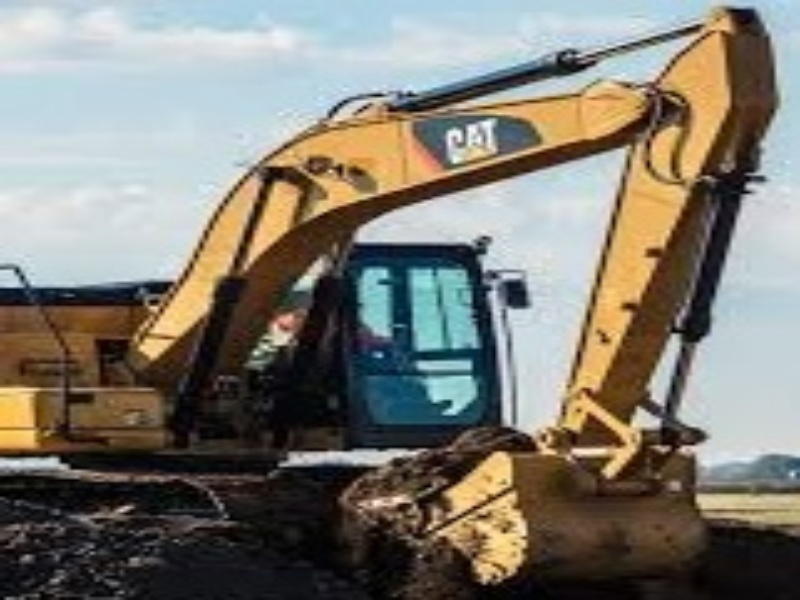wajueji: (4, 175, 686, 600)
